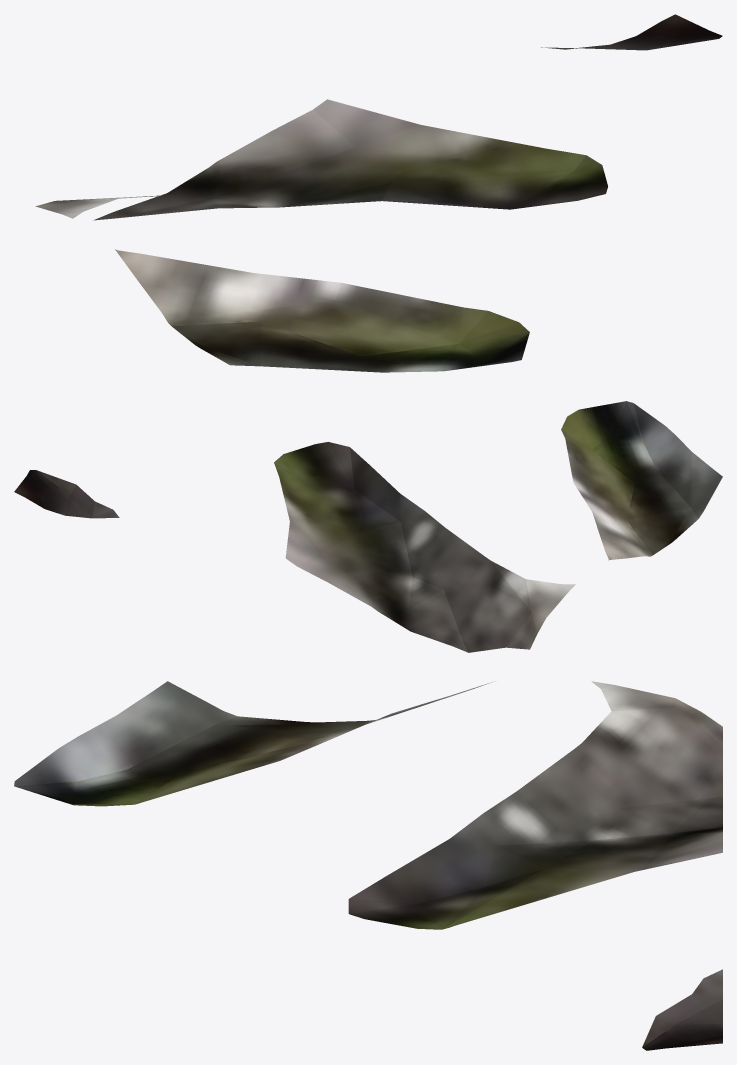
The picture shows the model from 3 angles, top to bottom: view 1: azimuth 30°, elevation 25°; view 2: azimuth 150°, elevation 25°; view 3: azimuth 270°, elevation 25°; orthographic projection. The views are drawn at different scales.
Bounding box in the file's own units: 0.3999 × 0.0362 × 0.3241.
Materials: 1 (1 with a texture image).
